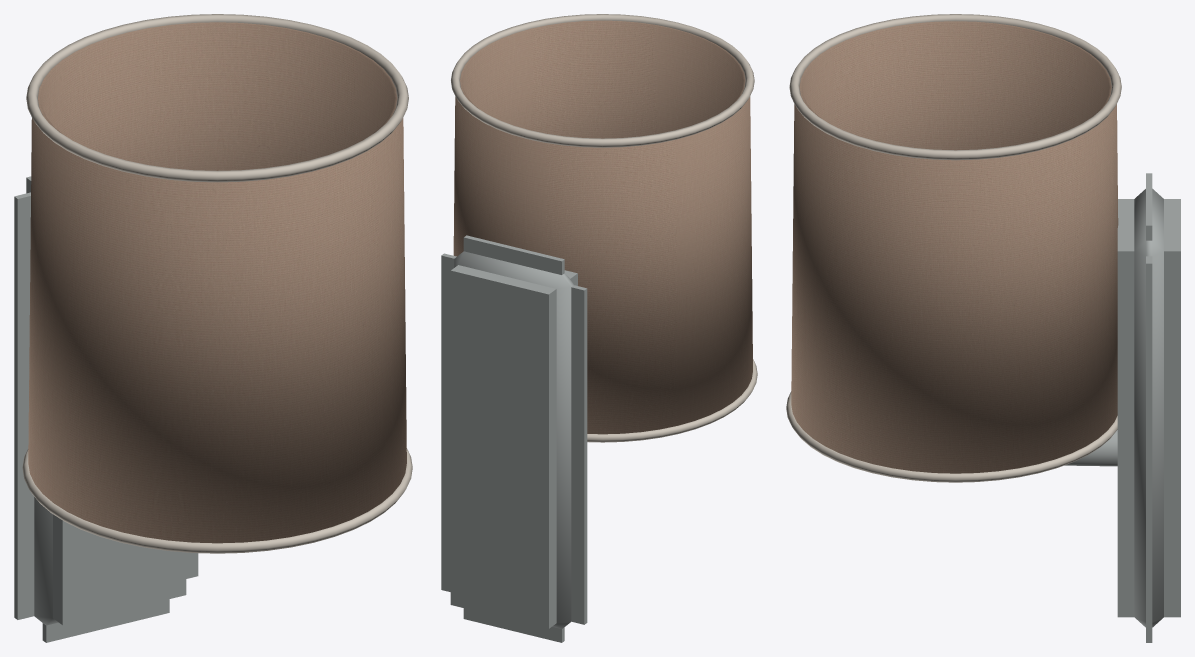
Rendered from modern.wall_light.gltf.
The picture shows the model from 3 angles, left to right: view 1: azimuth 30°, elevation 25°; view 2: azimuth 150°, elevation 25°; view 3: azimuth 270°, elevation 25°; orthographic projection. The views are drawn at different scales.
Visible parts, largest first — view 1: modern.wall_light.wall-plate; view 2: modern.wall_light.wall-plate; view 3: modern.wall_light.wall-plate.
Part boxes in pixels (left/top/right/bottom): modern.wall_light.wall-plate: left=14, top=14, right=412, bottom=642; modern.wall_light.wall-plate: left=441, top=14, right=757, bottom=642; modern.wall_light.wall-plate: left=786, top=14, right=1180, bottom=642.
Bounding box in the file's own units: 0.134 × 0.2327 × 0.156.
Materials: 4 (1 with a texture image).
